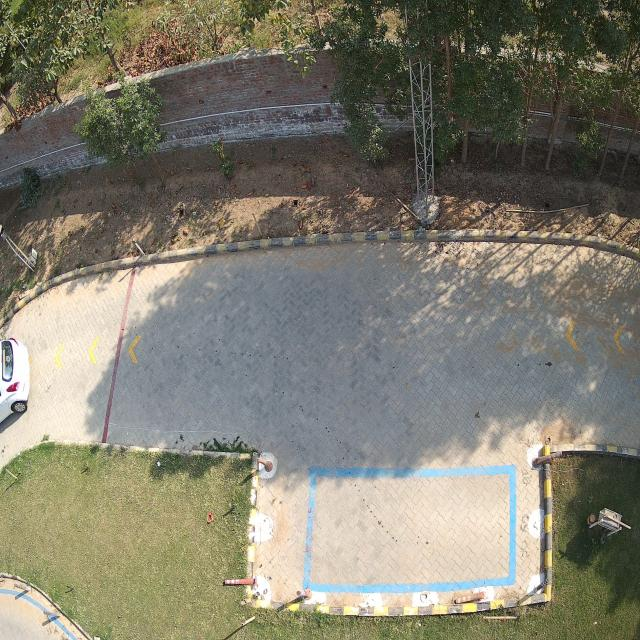car: (0, 338, 30, 422)
